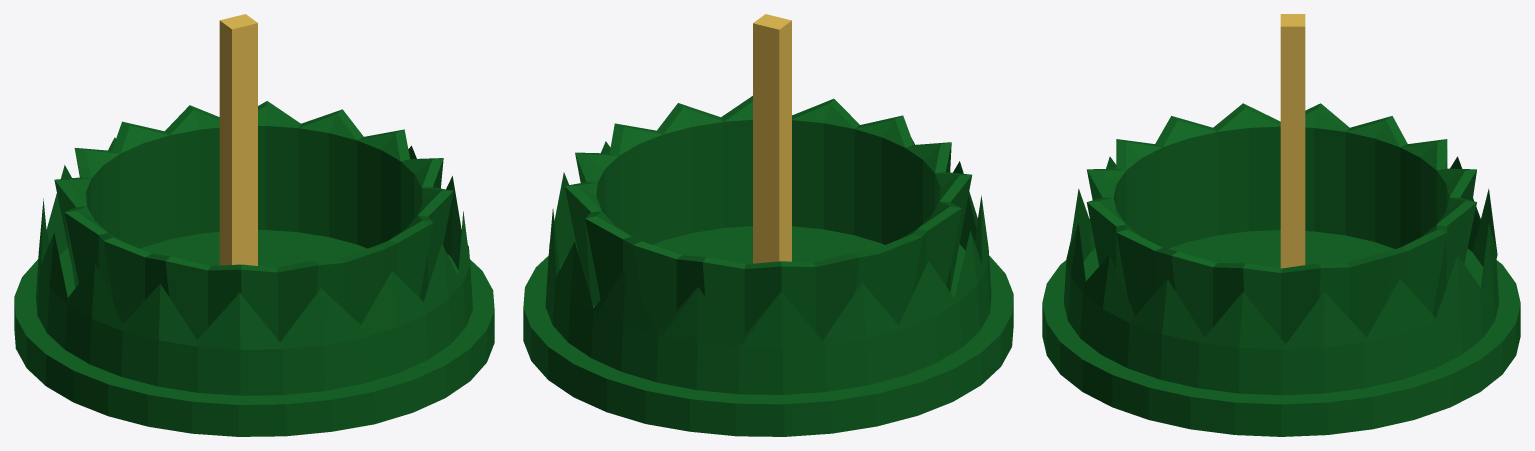
Rendered from กระทงสีเขียว  untitled.fbx.
The picture shows the model from 3 angles, left to right: view 1: azimuth 30°, elevation 25°; view 2: azimuth 150°, elevation 25°; view 3: azimuth 270°, elevation 25°; orthographic projection. The views are drawn at different scales.
Parts seen in each view (by area): view 1: วงกลม; view 2: วงกลม; view 3: วงกลม.
Boxes of the visible parts, bbox=[...] form: วงกลม: bbox=[14, 14, 494, 436]; วงกลม: bbox=[523, 14, 1013, 436]; วงกลม: bbox=[1042, 14, 1520, 436].
Bounding box in the file's own units: 268 × 192 × 268.
